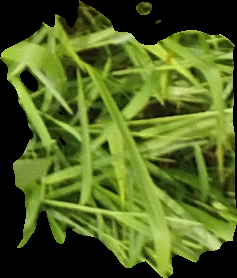grass: (1, 1, 235, 275)
